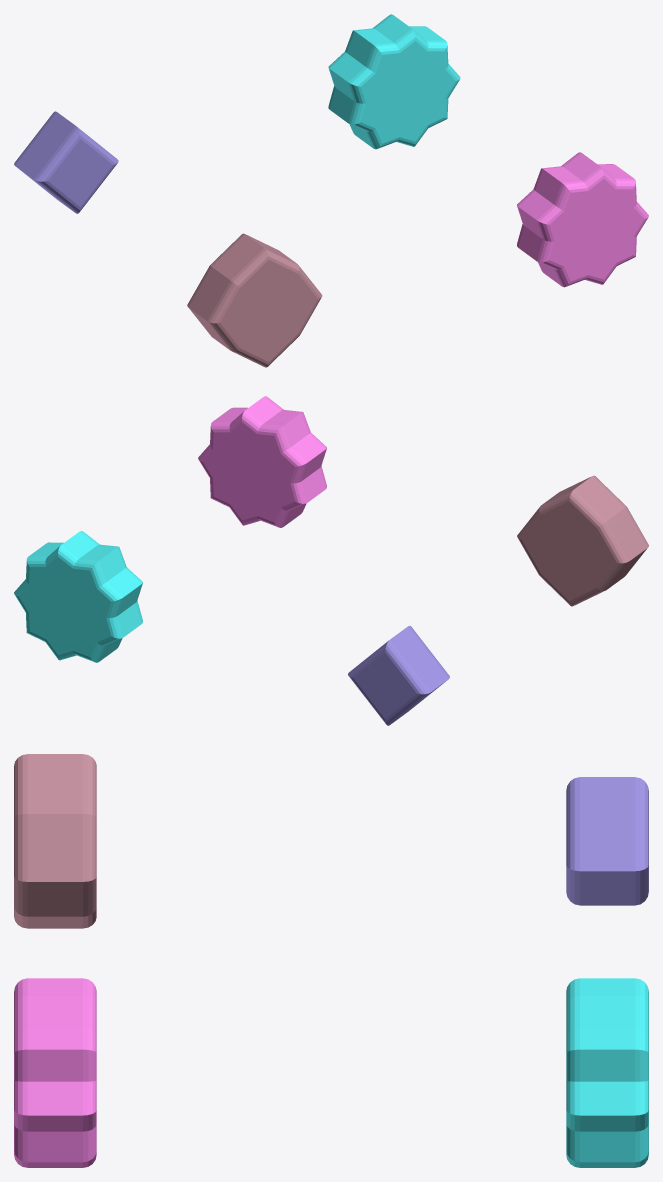
Rendered from Phong_Linear_2023-07-23-20-47-44.gltf.
3 views of the same model, one above another, from view 1: azimuth 30°, elevation 25°; view 2: azimuth 150°, elevation 25°; view 3: azimuth 270°, elevation 25° (orthographic). The views are drawn at different scales.
Size of the model in its own units: 270 by 69.74 by 230.
